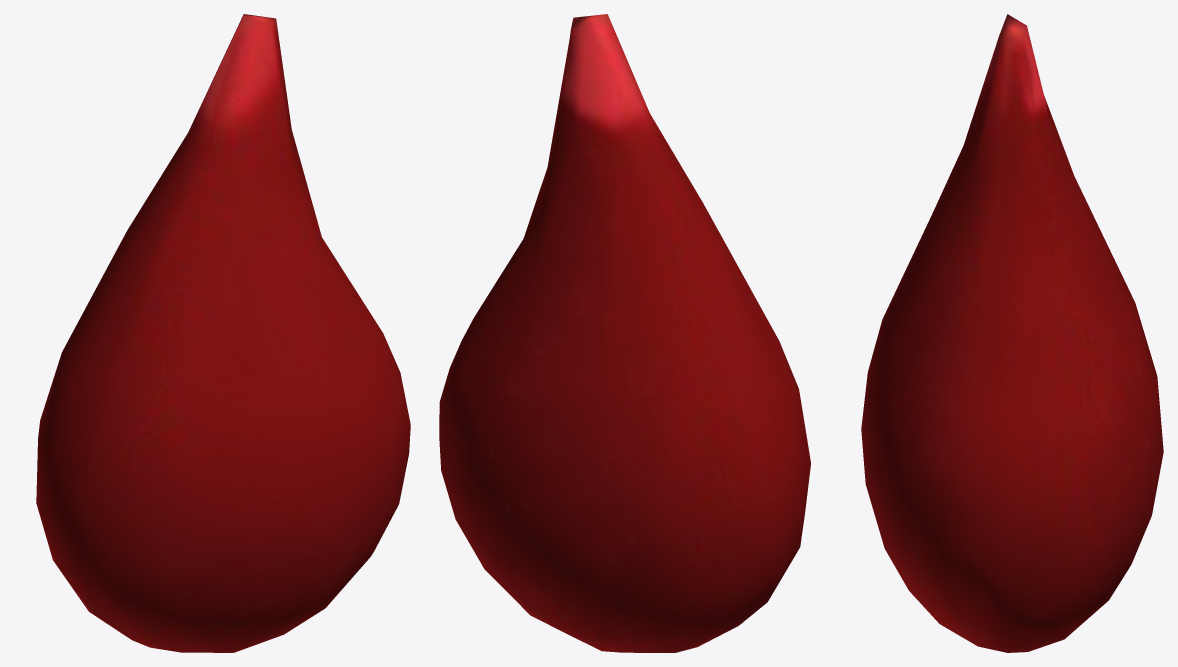
File: blood_drop.glb
The picture shows the model from 3 angles, left to right: view 1: azimuth 30°, elevation 25°; view 2: azimuth 150°, elevation 25°; view 3: azimuth 270°, elevation 25°; orthographic projection.
Parts seen in each view (by area): view 1: frame; view 2: frame; view 3: frame.
Boxes of the visible parts, x1,y1,x2,y2 form: frame: (36,14,410,652); frame: (439,14,810,652); frame: (861,14,1163,652).
Bounding box in the file's own units: 0.6368 × 0.9986 × 0.4336.
Materials: 1 (1 with a texture image).
